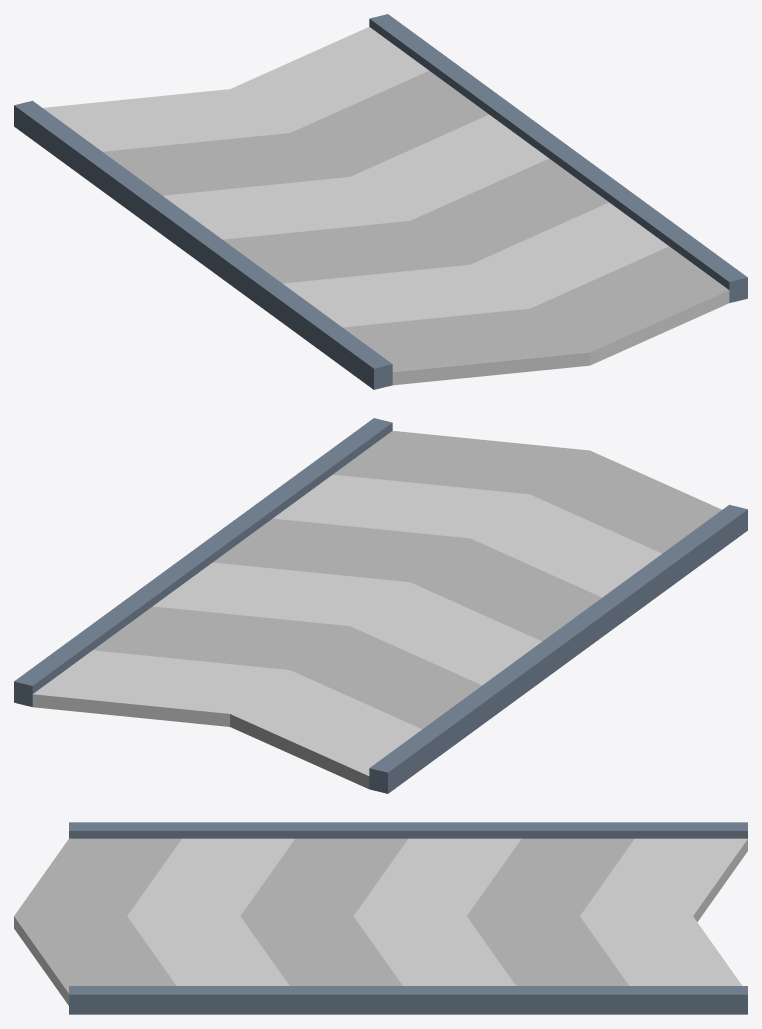
Rendered from Platform (1).fbx.
3 renders of one model, top to bottom at view 1: azimuth 30°, elevation 25°; view 2: azimuth 150°, elevation 25°; view 3: azimuth 270°, elevation 25°, orthographic. The views are drawn at different scales.
Parts seen in each view (by area): view 1: Platform; view 2: Platform; view 3: Platform.
Boxes of the visible parts, bbox=[...] form: Platform: bbox=[14, 14, 747, 389]; Platform: bbox=[14, 418, 747, 793]; Platform: bbox=[14, 822, 747, 1014].
Bounding box in the file's own units: 15.45 × 0.8374 × 27.84.
